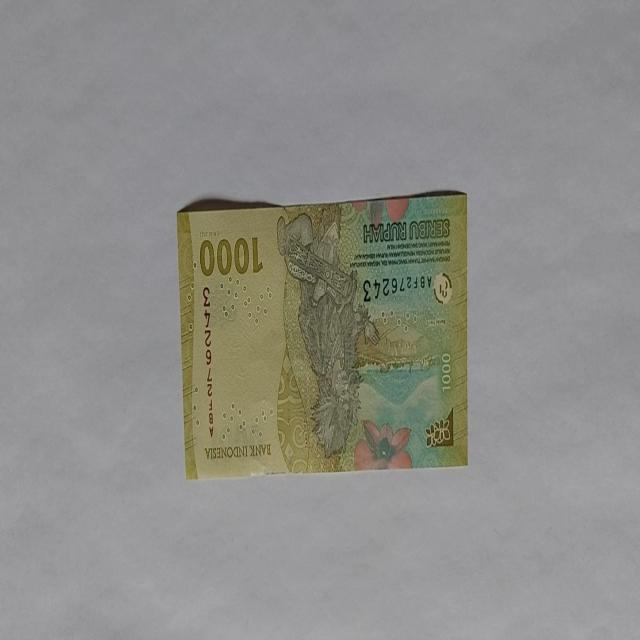seribu rupiah kertas: (176, 190, 468, 480)
